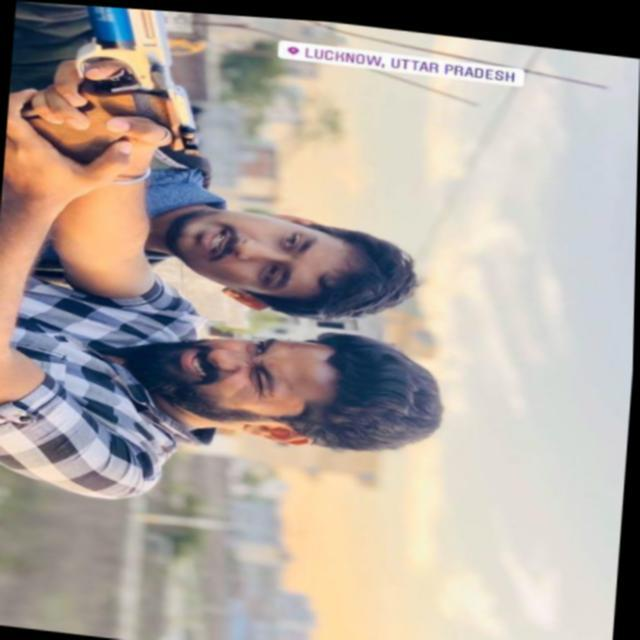weapon: (4, 1, 221, 196)
